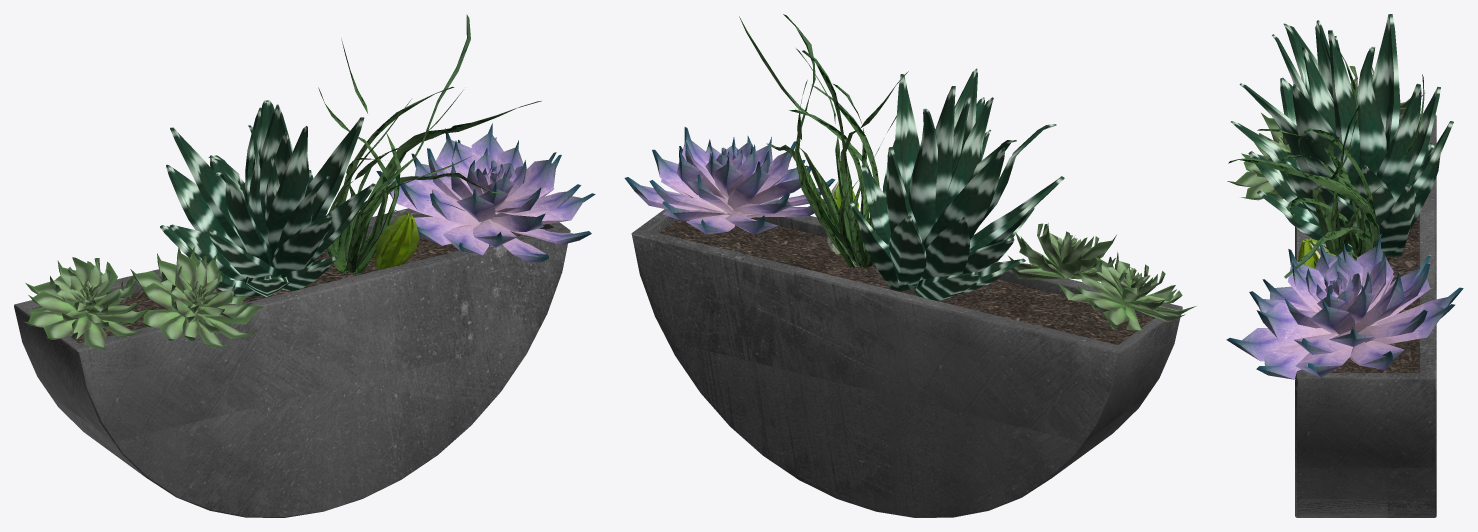
Rendered from Wall Planter 6.glb.
3 views of the same model, side by side, from view 1: azimuth 30°, elevation 25°; view 2: azimuth 150°, elevation 25°; view 3: azimuth 270°, elevation 25° (orthographic). The views are drawn at different scales.
Parts seen in each view (by area): view 1: fb63221c-7d02-4726-b5e0-3712f6071992, 047cbadc-53dd-4953-a6d9-905fa3915469, b1f185a4-ff27-44aa-90fb-a65cc23c856a, 02461dd4-6e5d-4fe0-88da-280a493abb42, cb0189f0-7891-4305-bbc2-fdf7cb7c2266, 4bcd7a56-1042-4458-bdcd-8cee540f6c98, 8974e4ed-7e2e-4159-a8ca-2768fe3cfe6c; view 2: fb63221c-7d02-4726-b5e0-3712f6071992, 047cbadc-53dd-4953-a6d9-905fa3915469, b1f185a4-ff27-44aa-90fb-a65cc23c856a, 4bcd7a56-1042-4458-bdcd-8cee540f6c98, 02461dd4-6e5d-4fe0-88da-280a493abb42, cb0189f0-7891-4305-bbc2-fdf7cb7c2266; view 3: 047cbadc-53dd-4953-a6d9-905fa3915469, fb63221c-7d02-4726-b5e0-3712f6071992, b1f185a4-ff27-44aa-90fb-a65cc23c856a, cb0189f0-7891-4305-bbc2-fdf7cb7c2266, 4bcd7a56-1042-4458-bdcd-8cee540f6c98, 02461dd4-6e5d-4fe0-88da-280a493abb42, 8974e4ed-7e2e-4159-a8ca-2768fe3cfe6c.
Boxes of the visible parts, x1,y1,x2,y2 form: fb63221c-7d02-4726-b5e0-3712f6071992: [14, 208, 570, 517]; 047cbadc-53dd-4953-a6d9-905fa3915469: [160, 100, 375, 297]; b1f185a4-ff27-44aa-90fb-a65cc23c856a: [376, 123, 595, 262]; 02461dd4-6e5d-4fe0-88da-280a493abb42: [23, 246, 263, 349]; cb0189f0-7891-4305-bbc2-fdf7cb7c2266: [318, 14, 541, 273]; 4bcd7a56-1042-4458-bdcd-8cee540f6c98: [70, 228, 540, 343]; 8974e4ed-7e2e-4159-a8ca-2768fe3cfe6c: [374, 213, 419, 269]; fb63221c-7d02-4726-b5e0-3712f6071992: [631, 209, 1182, 517]; 047cbadc-53dd-4953-a6d9-905fa3915469: [849, 68, 1064, 301]; b1f185a4-ff27-44aa-90fb-a65cc23c856a: [624, 127, 835, 234]; 4bcd7a56-1042-4458-bdcd-8cee540f6c98: [659, 219, 1154, 344]; 02461dd4-6e5d-4fe0-88da-280a493abb42: [1008, 223, 1196, 331]; cb0189f0-7891-4305-bbc2-fdf7cb7c2266: [739, 14, 908, 268]; 047cbadc-53dd-4953-a6d9-905fa3915469: [1231, 14, 1453, 256]; fb63221c-7d02-4726-b5e0-3712f6071992: [1295, 113, 1436, 517]; b1f185a4-ff27-44aa-90fb-a65cc23c856a: [1226, 234, 1463, 379]; cb0189f0-7891-4305-bbc2-fdf7cb7c2266: [1228, 47, 1424, 278]; 4bcd7a56-1042-4458-bdcd-8cee540f6c98: [1322, 215, 1418, 372]; 02461dd4-6e5d-4fe0-88da-280a493abb42: [1227, 66, 1425, 200]; 8974e4ed-7e2e-4159-a8ca-2768fe3cfe6c: [1298, 238, 1335, 268].
Bounding box in the file's own units: 0.4448 × 0.3339 × 0.1511.
Materials: 7 (7 with a texture image).
